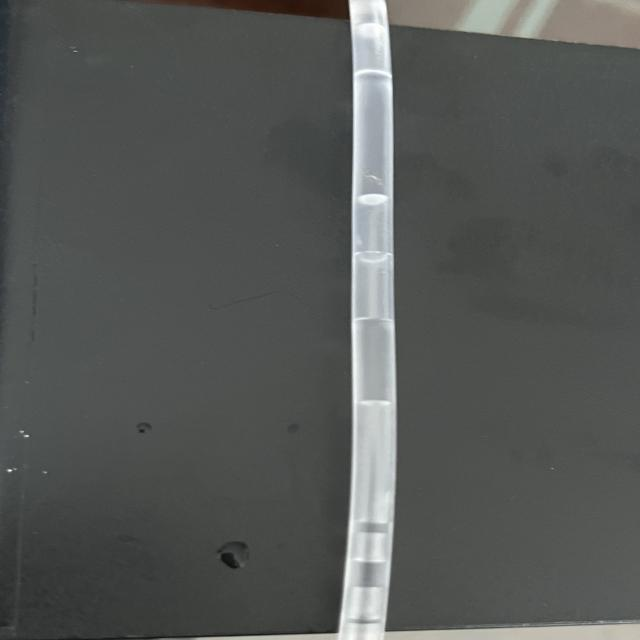bubble: (340, 74, 408, 208), (337, 399, 408, 518), (337, 256, 402, 333), (343, 10, 396, 82), (334, 528, 399, 577), (337, 585, 387, 630), (359, 160, 396, 194)
